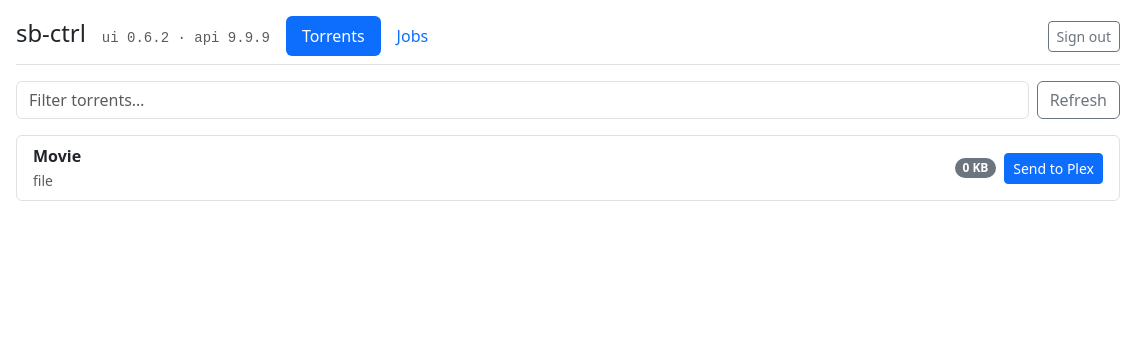
Test case: signs out and asks again
This screenshot has width=1137, height=338.
Expected: the text "Movie" is shown, [33,145,81,167]
Click the button "Sign out".
click(1084, 36)  # box [1048,21,1120,52]
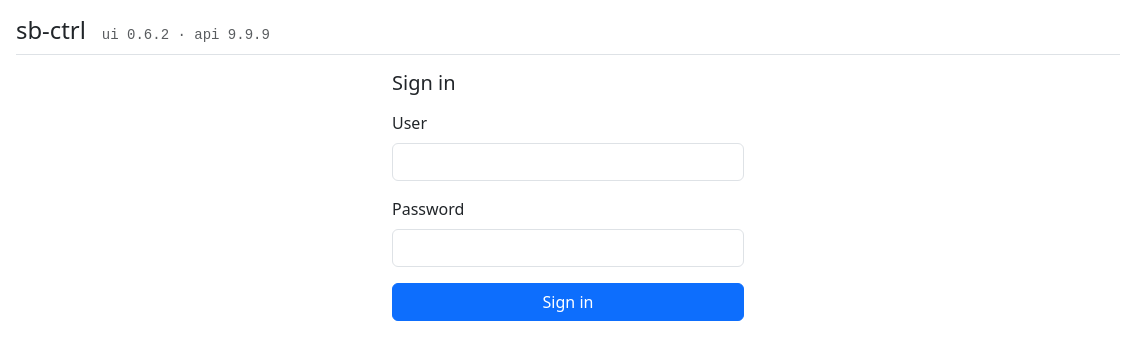
Now the button "Sign in" is shown, box [392,283,744,321]
